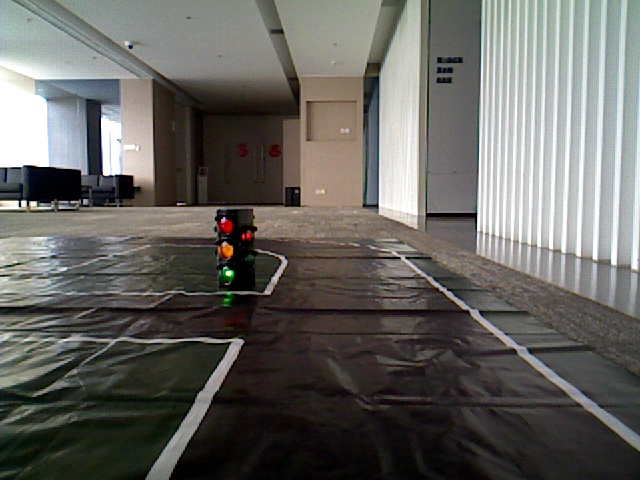green: (217, 212, 240, 281)
